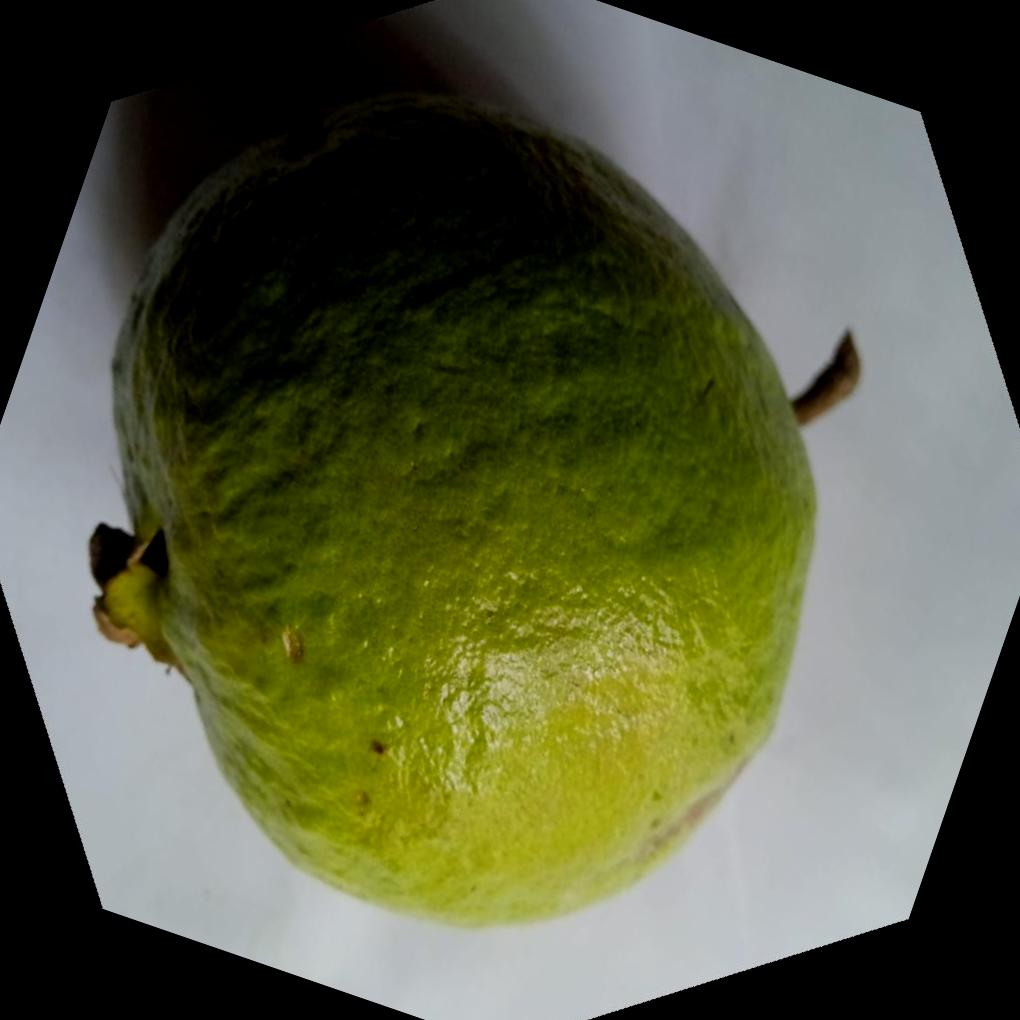FreshGuava: (87, 90, 817, 935)
